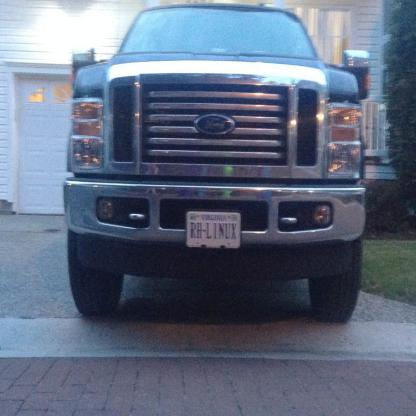Car: (64, 3, 371, 322)
Truck: (62, 0, 372, 323)
